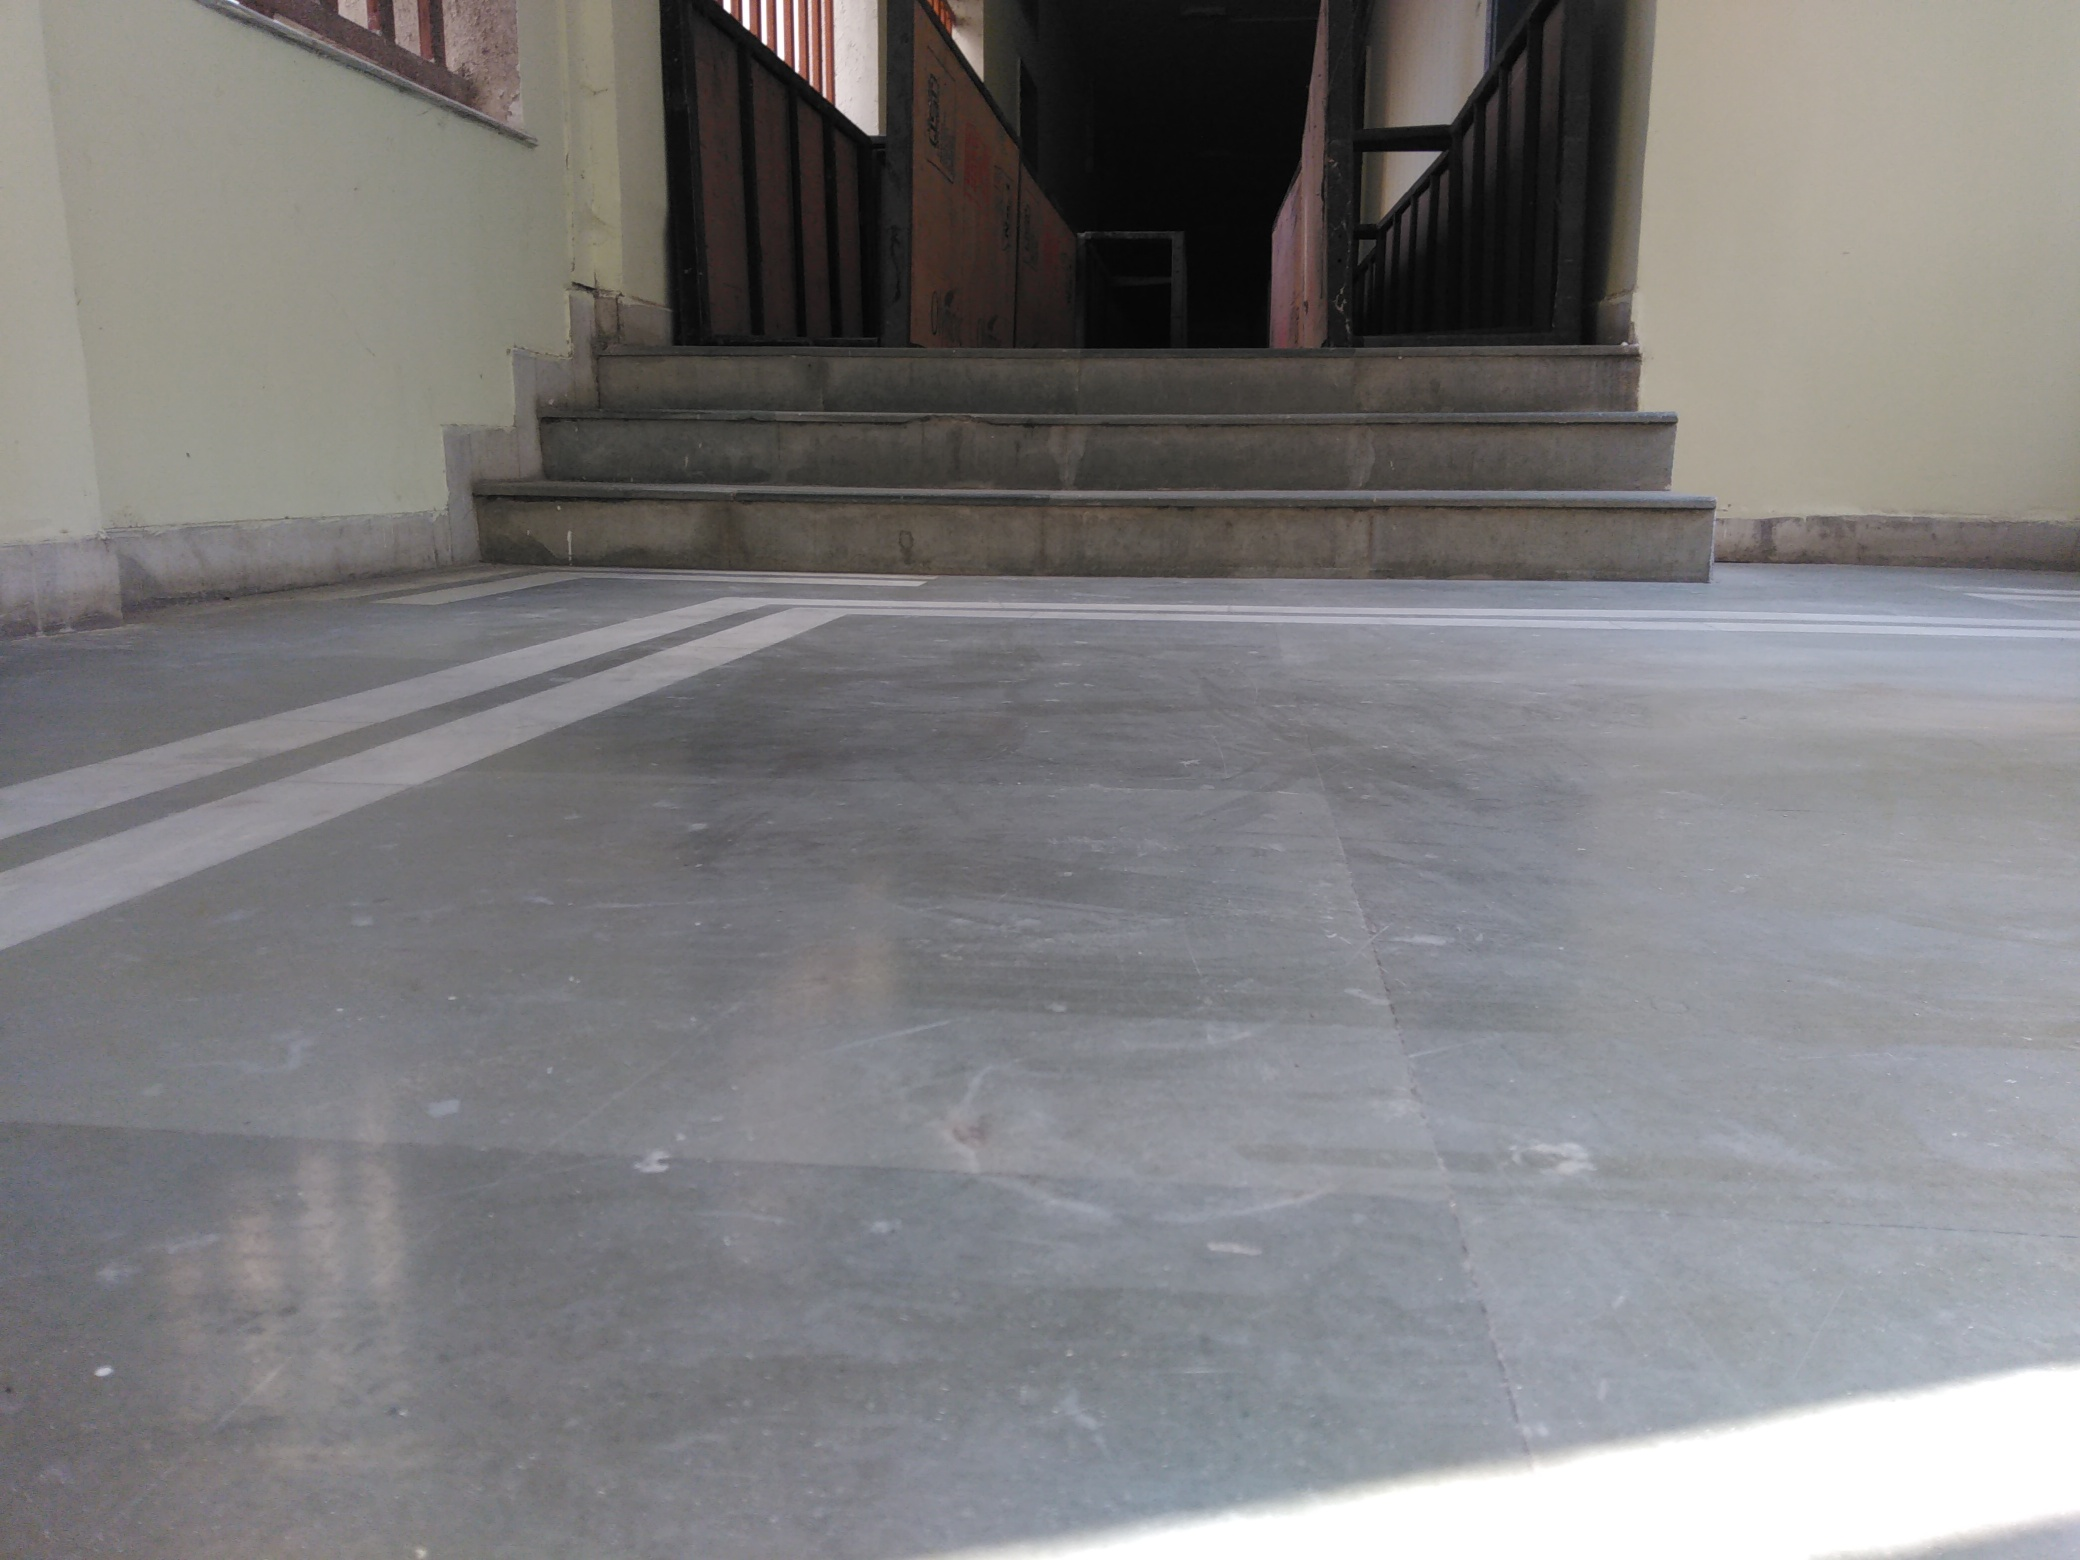stairs_up: (486, 326, 1697, 596)
